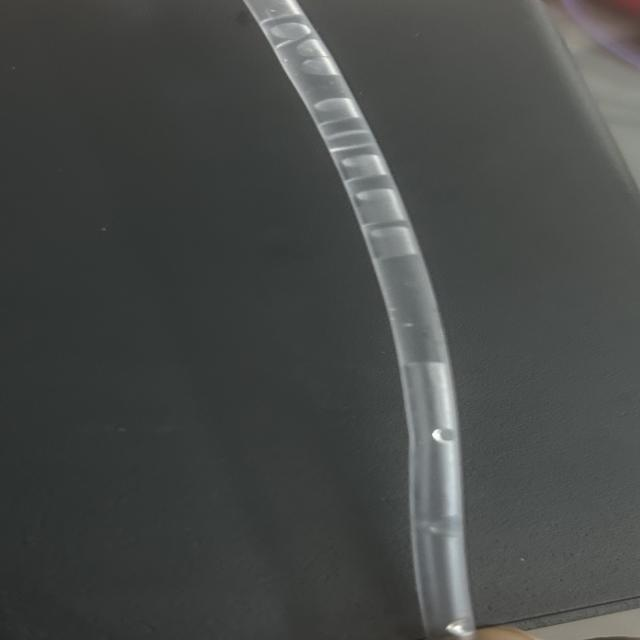bubble: (394, 354, 488, 408), (362, 226, 438, 263), (300, 131, 403, 153), (296, 56, 368, 83), (309, 95, 381, 121), (324, 157, 398, 181), (254, 26, 314, 49), (429, 420, 472, 448)
